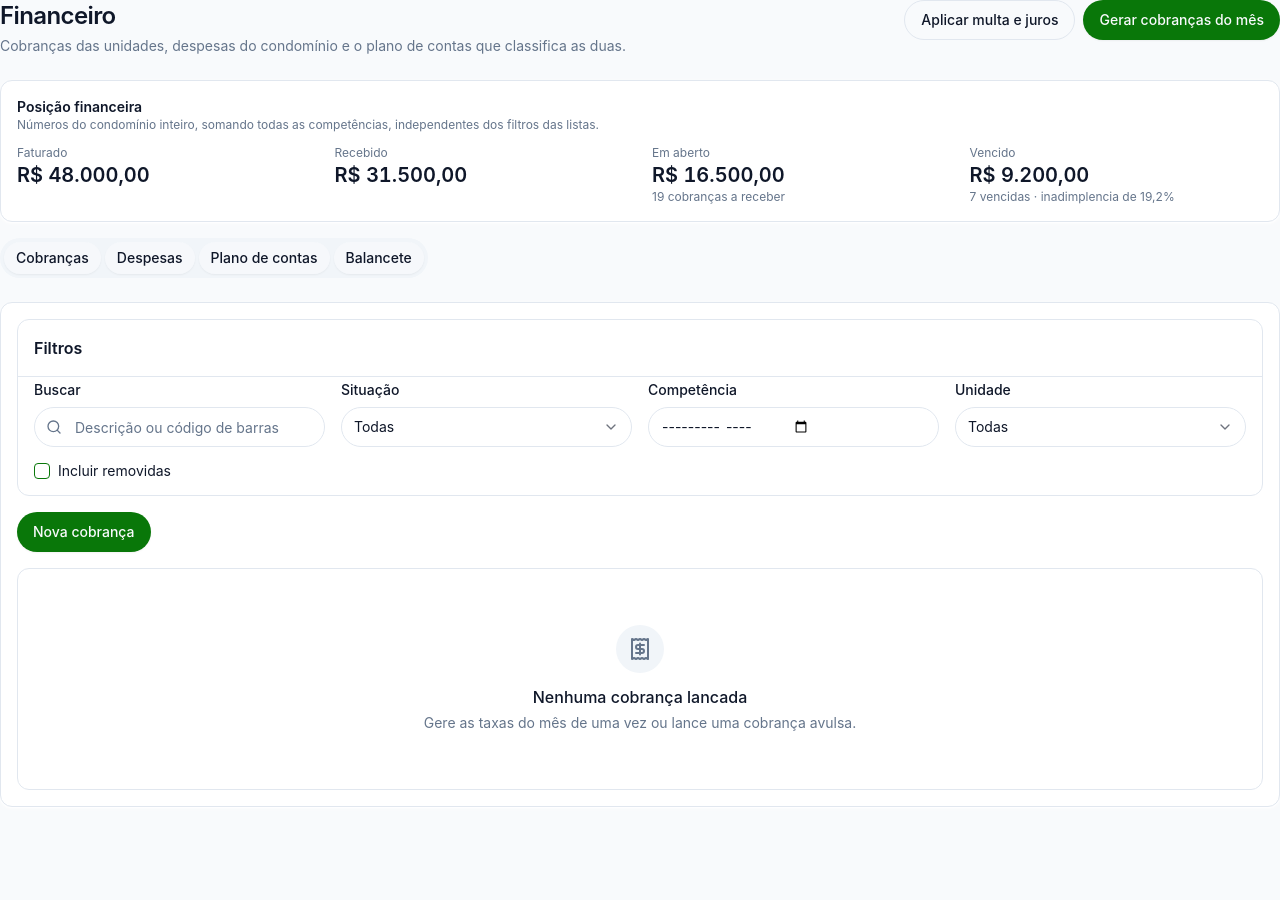
Test case: Geração em lote › valor fixo e total a ratear juntos sao barrados antes do envio
Expected: the text "Nenhuma cobrança lancada" is shown, x1=533 y1=687 x2=747 y2=707
Click the button "Gerar cobranças do mês": (1182, 20) x1=1084 y1=0 x2=1279 y2=40
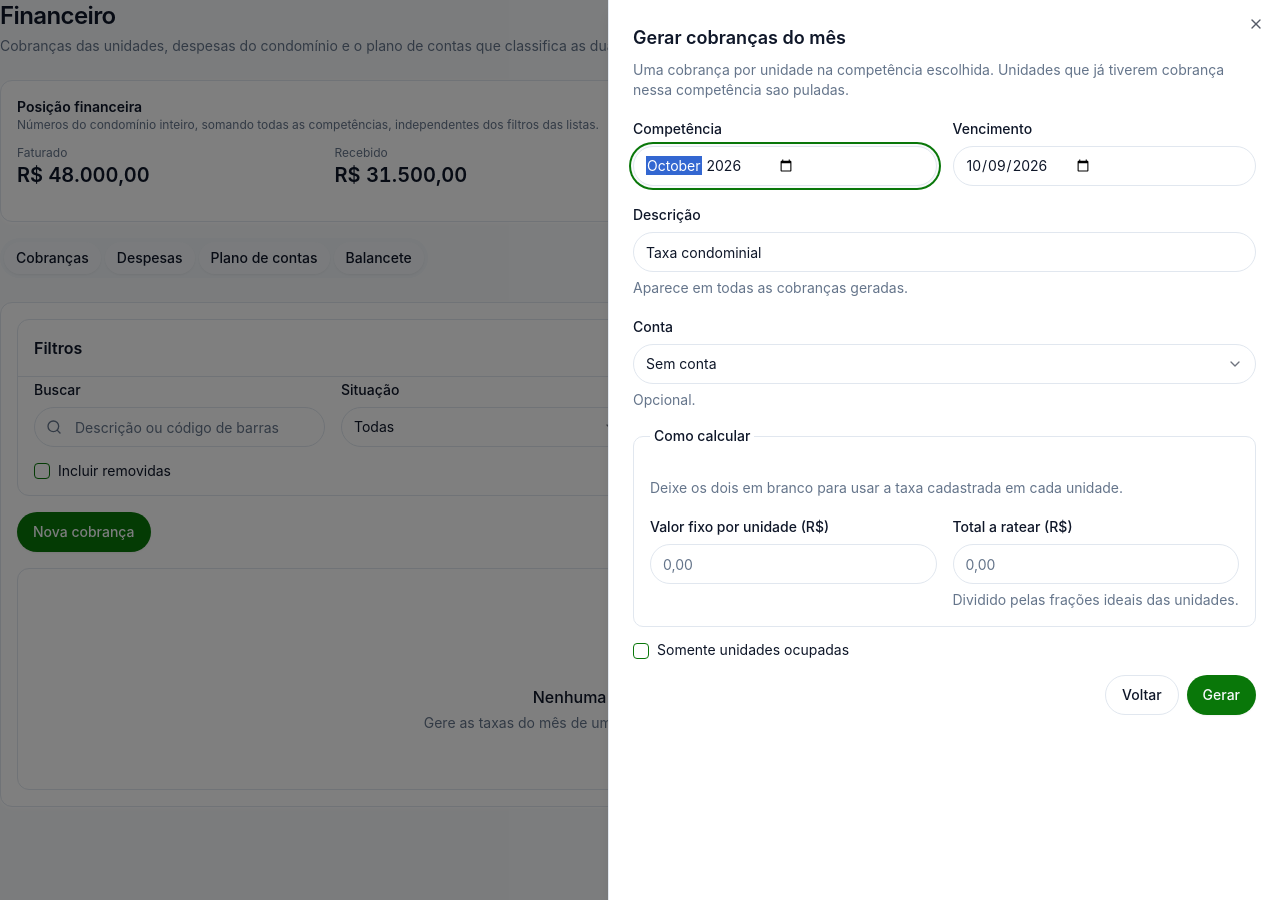
In the field labelled "Valor fixo por unidade (R$)": (793, 564) x1=650 y1=544 x2=936 y2=584, type "500"
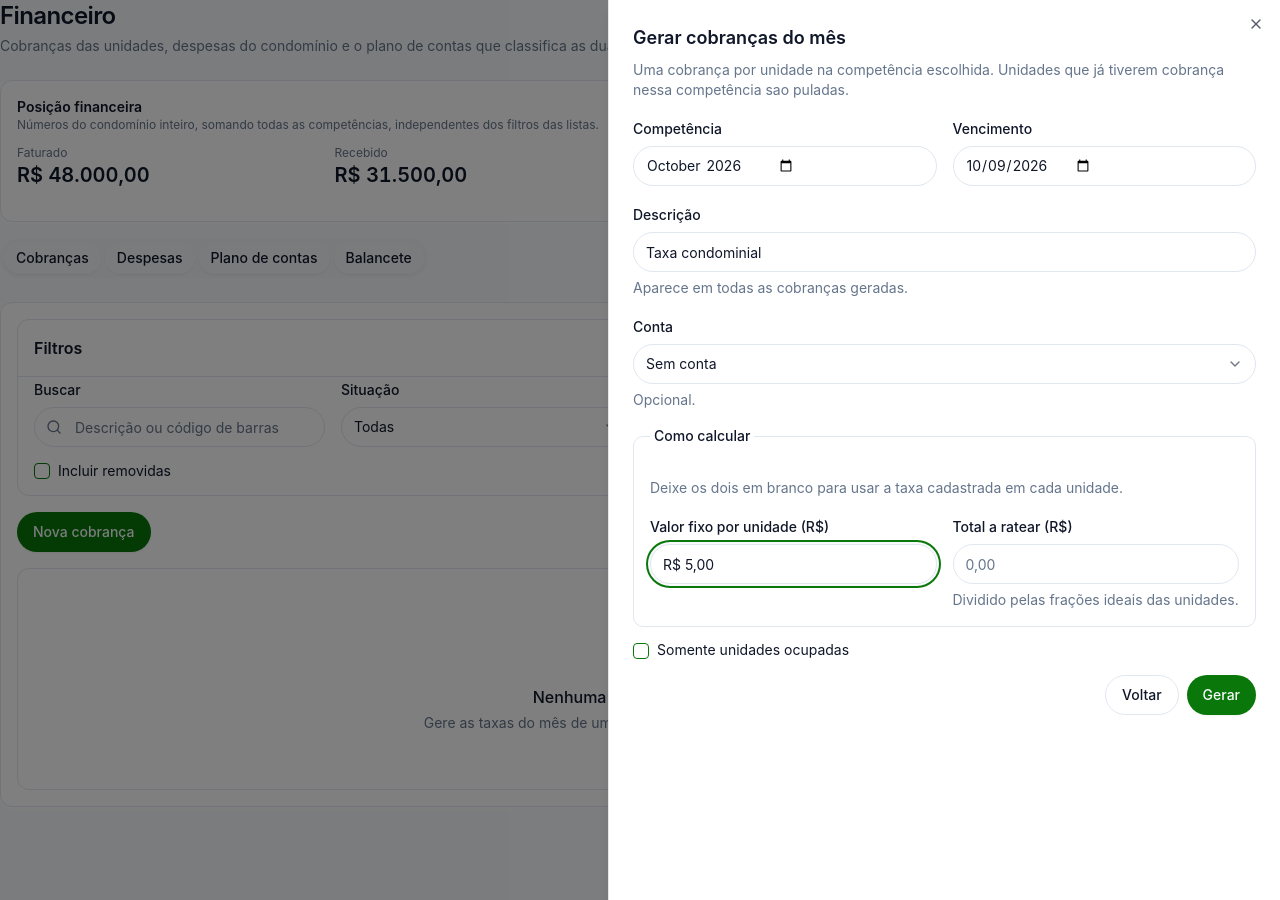
In the field labelled "Total a ratear (R$)": (1096, 564) x1=952 y1=544 x2=1239 y2=584, type "24000"
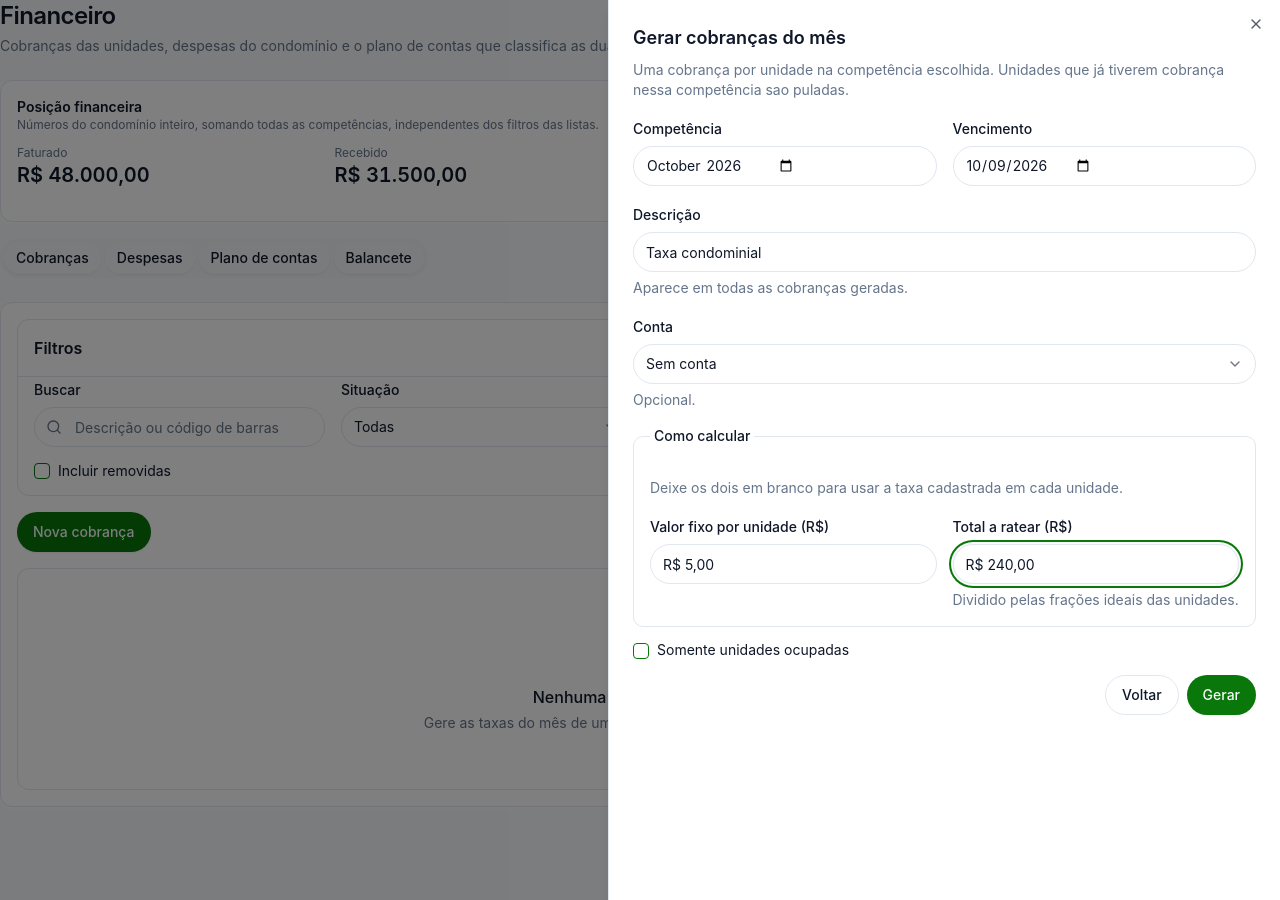
Click the button "Gerar": (1221, 695) x1=1187 y1=675 x2=1256 y2=715
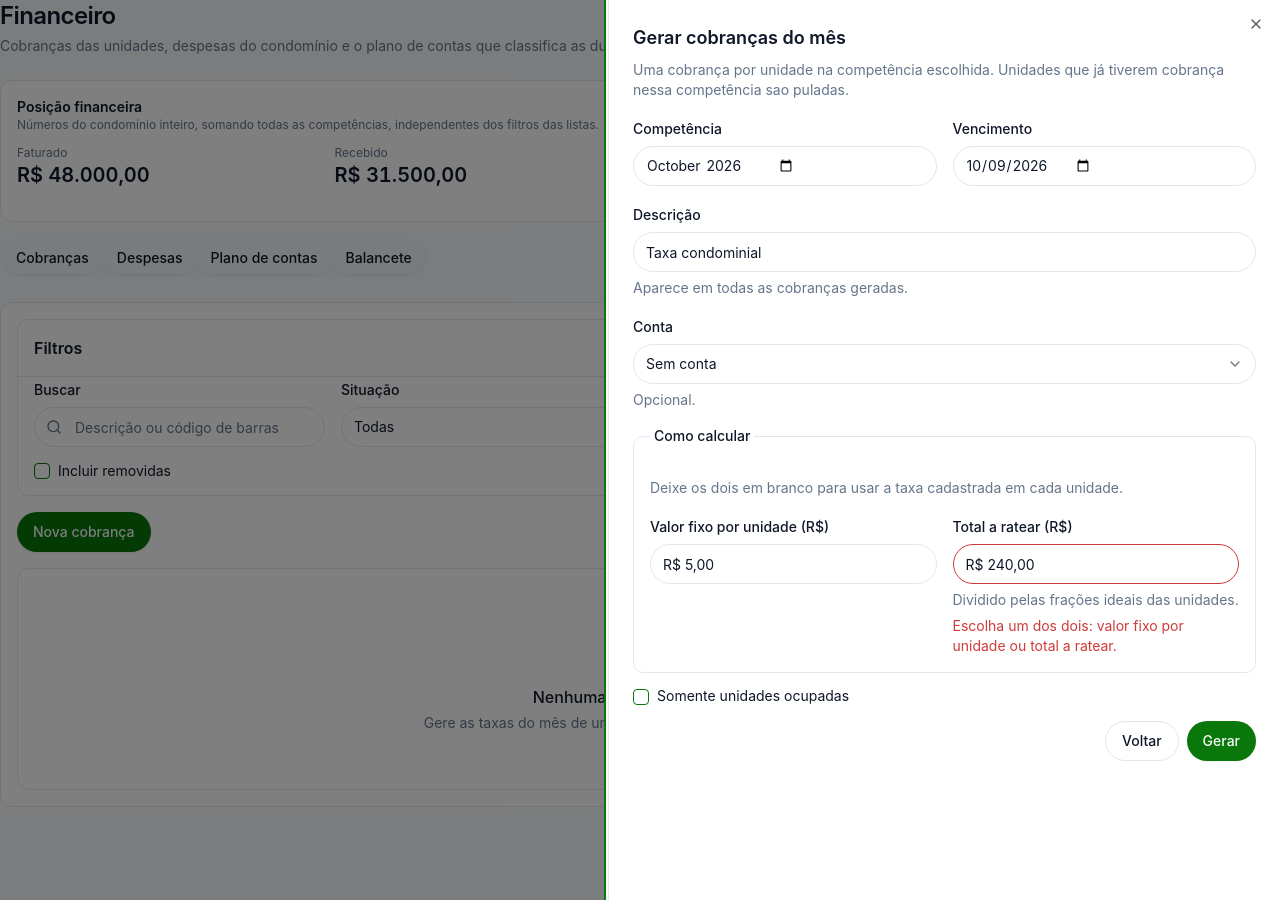
Now the text "Escolha um dos dois: valor fixo por unidade ou total a ratear." is shown, box x1=952 y1=617 x2=1184 y2=654
